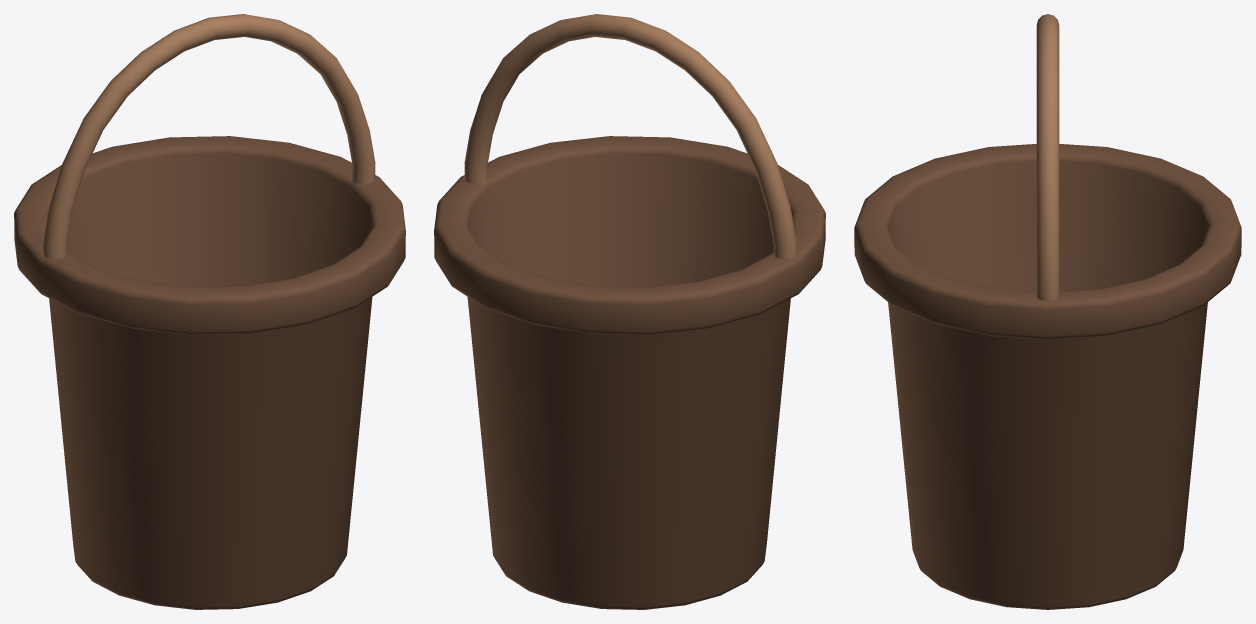
Rendered from Aquarius.fbx.
3 views of the same model, side by side, from view 1: azimuth 30°, elevation 25°; view 2: azimuth 150°, elevation 25°; view 3: azimuth 270°, elevation 25° (orthographic).
Parts seen in each view (by area): view 1: Aquarius; view 2: Aquarius; view 3: Aquarius.
Boxes of the visible parts, x1=… form: Aquarius: x1=14, y1=14, x2=405, y2=609; Aquarius: x1=434, y1=14, x2=825, y2=609; Aquarius: x1=854, y1=14, x2=1241, y2=609.
Size of the model in its own units: 67.95 by 102 by 67.95.
